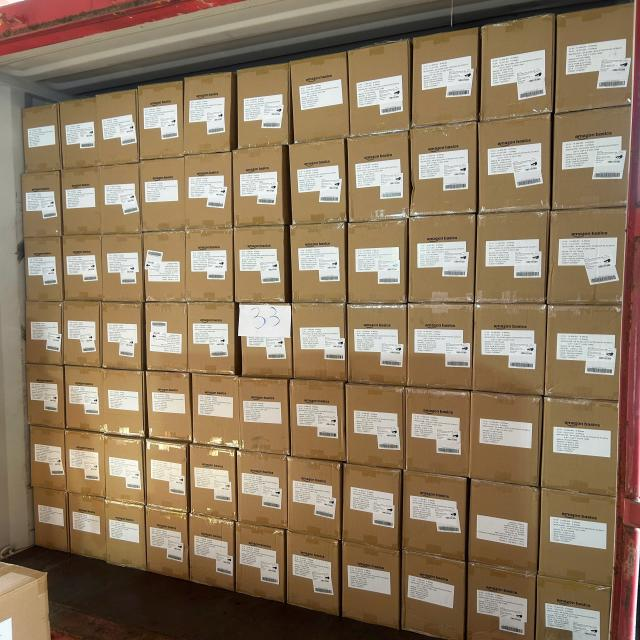Carton: (555, 6, 632, 114), (552, 107, 631, 212), (540, 396, 618, 496), (548, 207, 625, 307), (480, 15, 552, 119), (545, 303, 622, 400), (540, 488, 618, 582), (479, 117, 551, 213), (476, 210, 548, 303), (470, 477, 540, 572), (469, 391, 539, 486), (474, 305, 546, 397), (414, 30, 479, 129), (409, 212, 476, 302), (406, 388, 472, 479), (411, 124, 477, 215), (408, 305, 475, 393), (404, 470, 467, 562), (347, 39, 408, 134), (401, 553, 465, 640), (468, 560, 537, 638), (348, 134, 408, 221), (342, 542, 401, 630), (345, 382, 404, 469), (291, 57, 348, 146), (348, 219, 408, 303), (341, 464, 398, 551), (348, 307, 408, 389), (536, 575, 611, 640), (292, 142, 349, 226), (286, 532, 339, 618), (290, 224, 345, 306), (238, 67, 292, 150), (293, 379, 347, 462), (287, 458, 340, 540), (292, 303, 346, 382), (231, 146, 284, 226), (236, 520, 286, 604), (232, 225, 286, 302), (236, 305, 290, 381), (236, 379, 288, 457), (235, 455, 287, 532), (186, 74, 234, 155), (190, 518, 238, 597), (192, 376, 242, 450), (189, 444, 237, 520), (189, 304, 238, 378), (188, 153, 234, 230), (138, 82, 182, 162), (144, 509, 189, 585), (188, 232, 235, 304), (139, 158, 184, 232), (147, 374, 194, 444), (144, 442, 188, 516), (100, 90, 141, 168), (144, 304, 188, 375), (142, 229, 184, 302), (104, 500, 146, 570), (102, 303, 144, 373), (105, 234, 145, 305), (67, 496, 107, 566), (63, 368, 104, 436), (107, 437, 147, 506), (108, 370, 147, 440), (66, 428, 106, 496), (21, 172, 61, 240), (104, 167, 142, 238), (63, 235, 102, 304), (61, 170, 99, 239), (22, 104, 60, 173), (63, 303, 101, 371), (24, 300, 63, 366), (26, 238, 64, 305), (29, 365, 67, 432), (61, 98, 95, 171), (35, 490, 71, 555), (32, 428, 68, 493)
